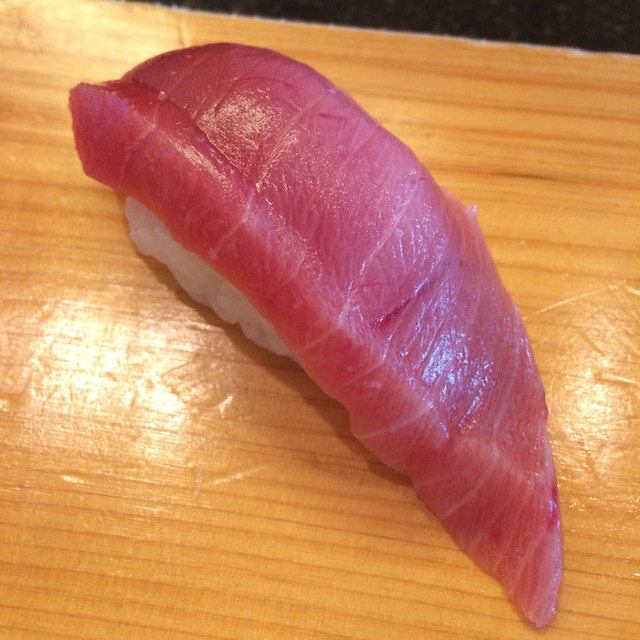medium_fatty_tuna: (66, 41, 573, 627)
